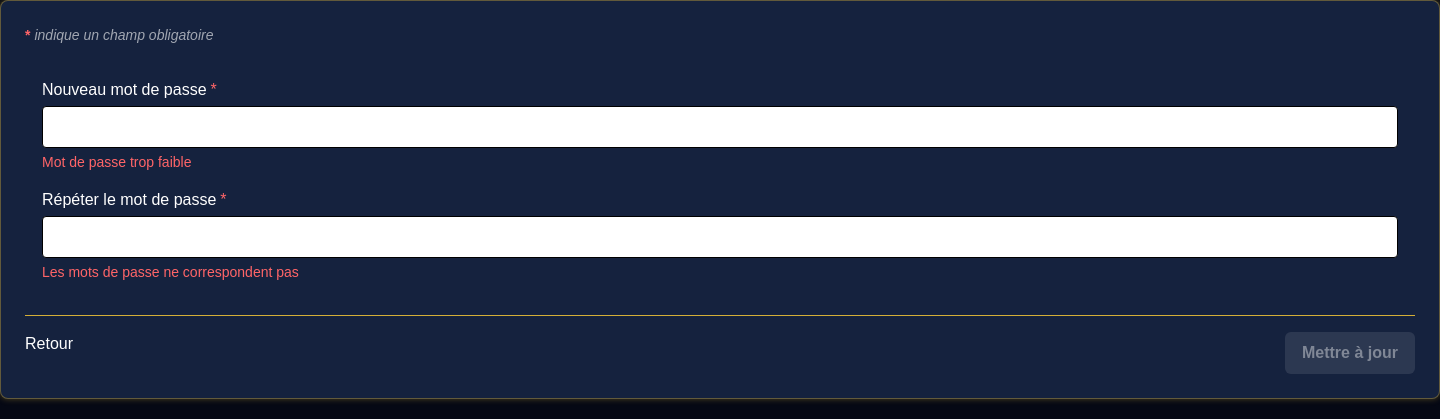
Test: ResetPasswordForm cas indépendant + cas erreur serveur › active le bouton quand le formulaire est valide
The image size is (1440, 419).
Type "Password123?" into the password field labelled "Nouveau mot de passe*" at [720, 127], box x1=42 y1=106 x2=1398 y2=148
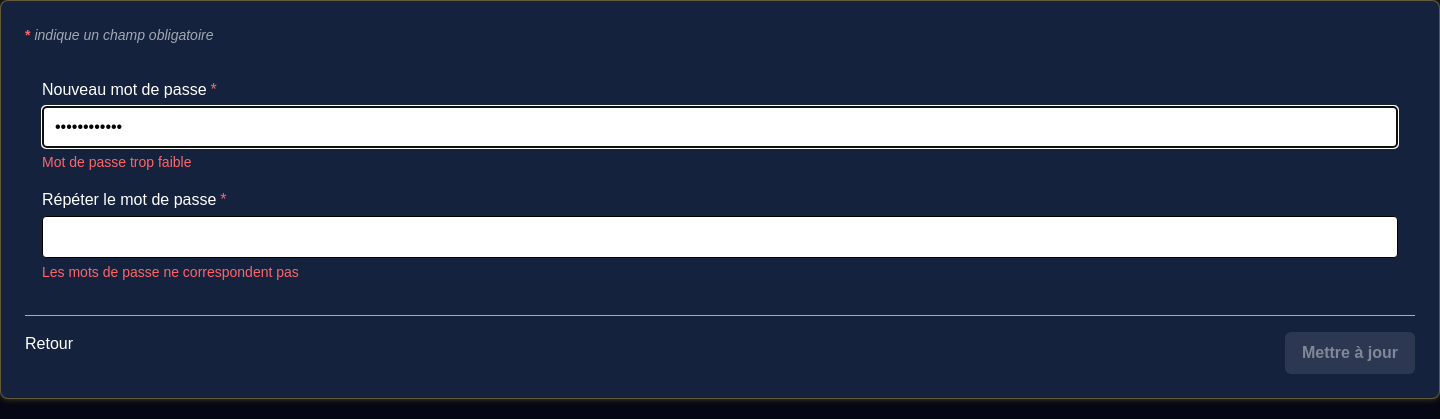
Type "Password123?" into the password field labelled "Répéter le mot de passe*" at [720, 237], box x1=42 y1=216 x2=1398 y2=258
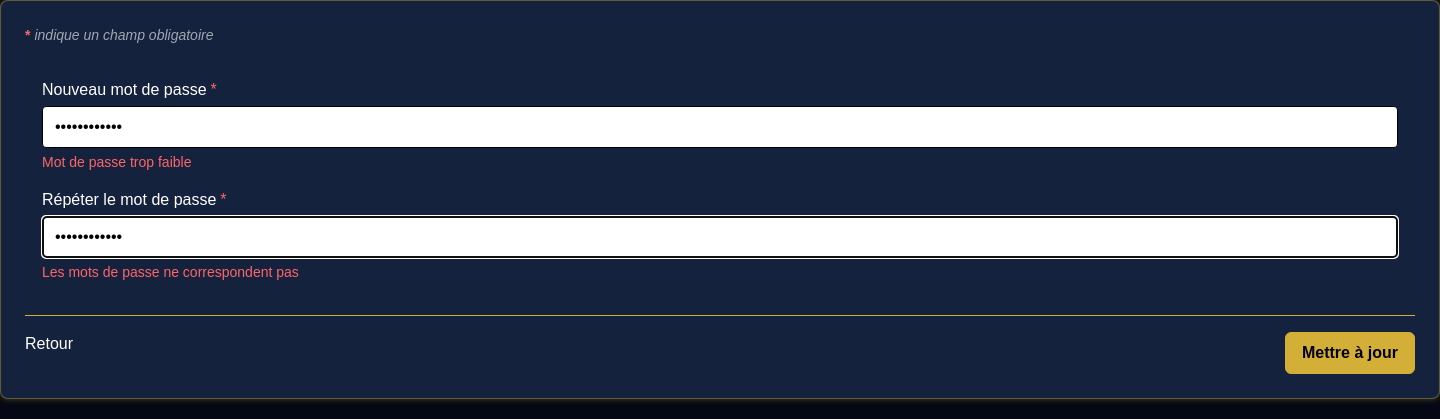
Expected: the button "Mettre à jour" is enabled, x1=1285 y1=332 x2=1415 y2=374
